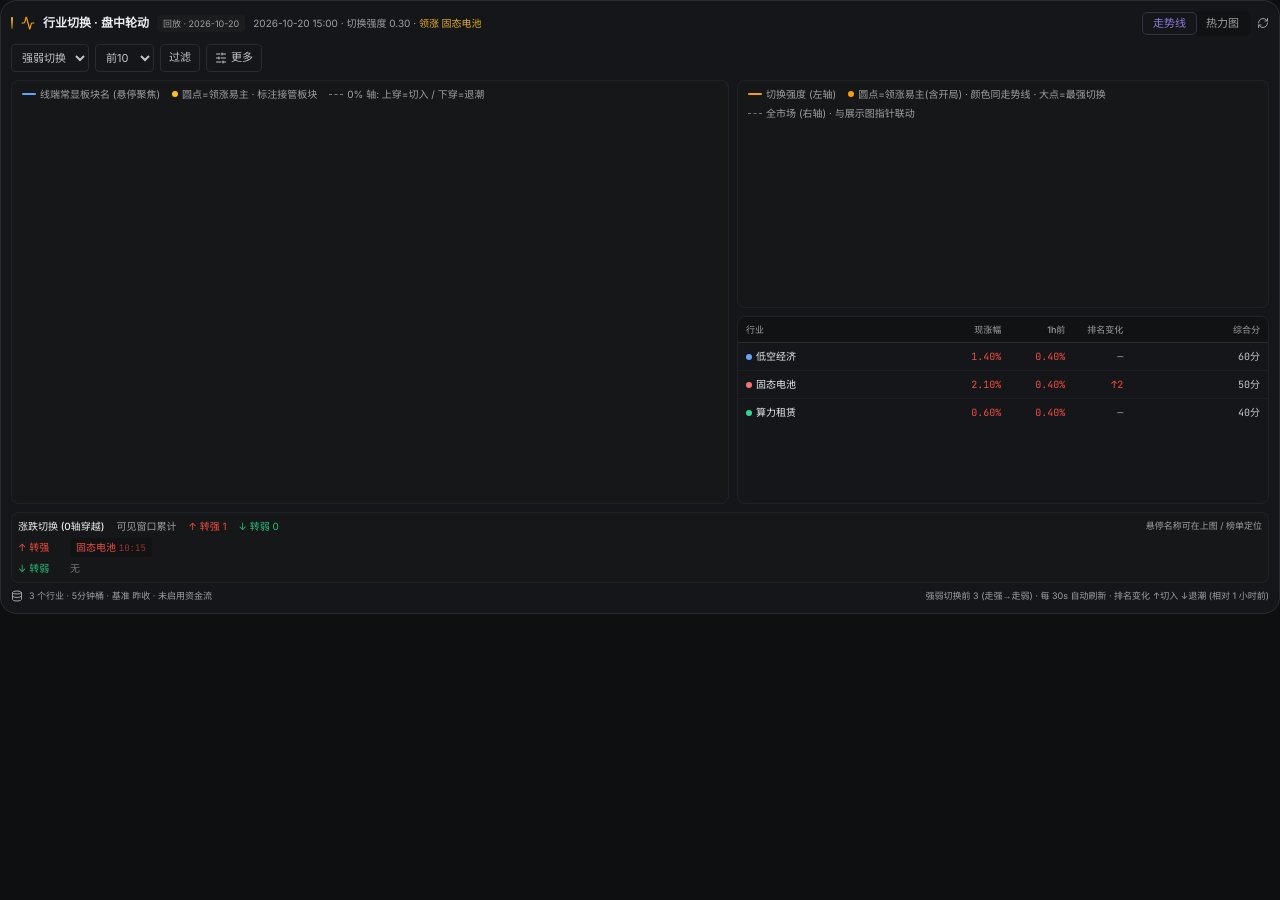
Scenario: 资金流下拉收录 Parquet 真实类型名 (DOUBLE/BIGINT/DECIMAL) 的数值列
What coordinates should you click on to do the following:
click the button "更多"
I would click on:
 (234, 58)
Its box is [206,44,262,72].
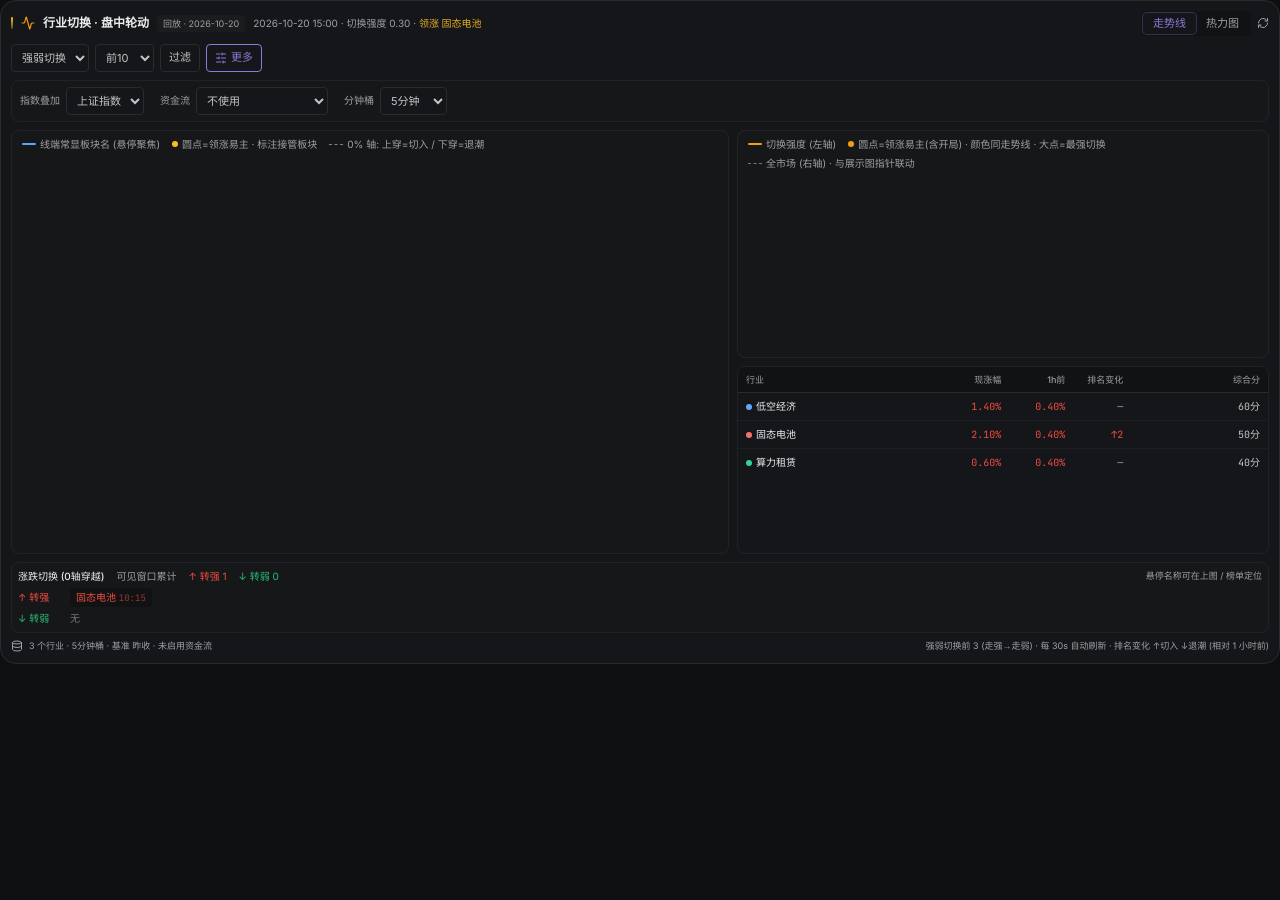
Result: the dropdown named "资金流扩展列" is shown at [196,86,328,114]
